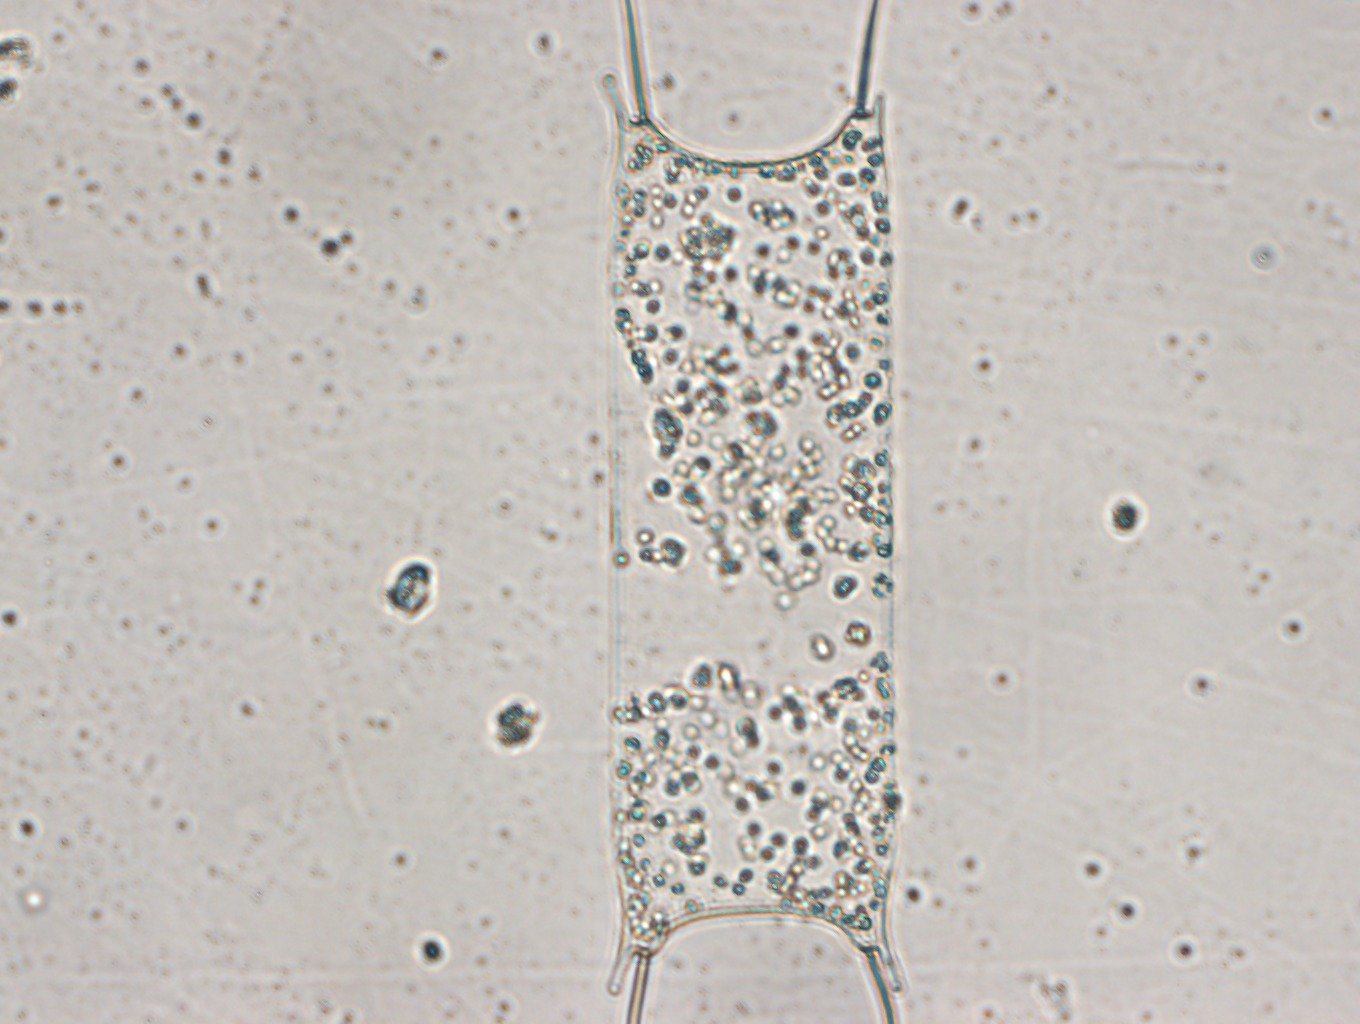biddulphia: (599, 1, 910, 1024)
